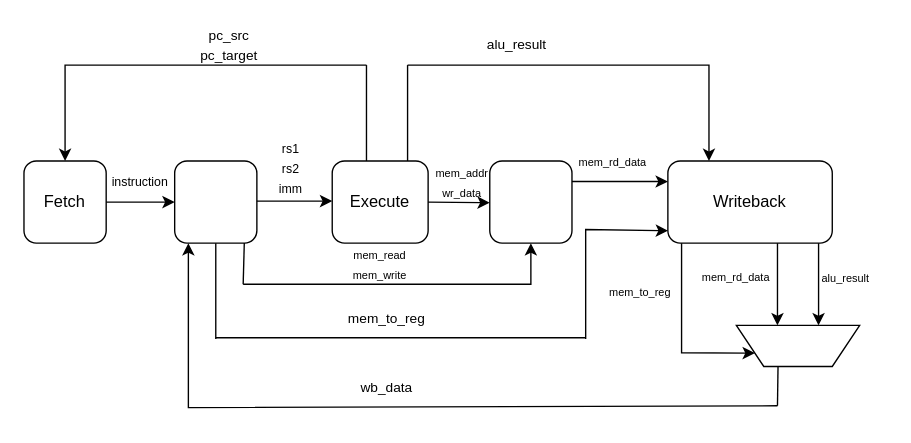
Image size: 911x443. Some labels were removed from this diagram. Each missing label, with the centre of its shape:
Decode: pixel 215 201
Memory: pixel 530 201
